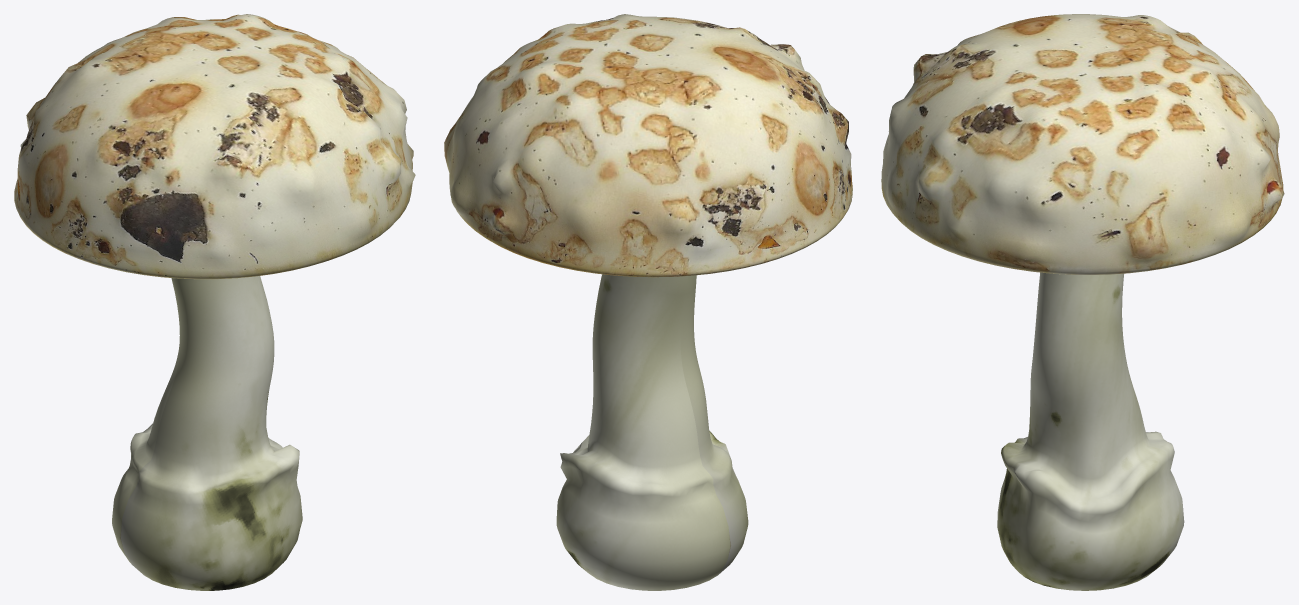
The model's file is SENE_05.fbx.
3 views of the same model, side by side, from view 1: azimuth 30°, elevation 25°; view 2: azimuth 150°, elevation 25°; view 3: azimuth 270°, elevation 25° (orthographic).
Parts seen in each view (by area): view 1: SENE_05; view 2: SENE_05; view 3: SENE_05.
Boxes of the visible parts, x1=… form: SENE_05: x1=14, y1=14, x2=415, y2=590; SENE_05: x1=444, y1=14, x2=852, y2=590; SENE_05: x1=881, y1=14, x2=1284, y2=590.
Bounding box in the file's own units: 53.27 × 74.58 × 52.36.
1 material, 1 textured.
